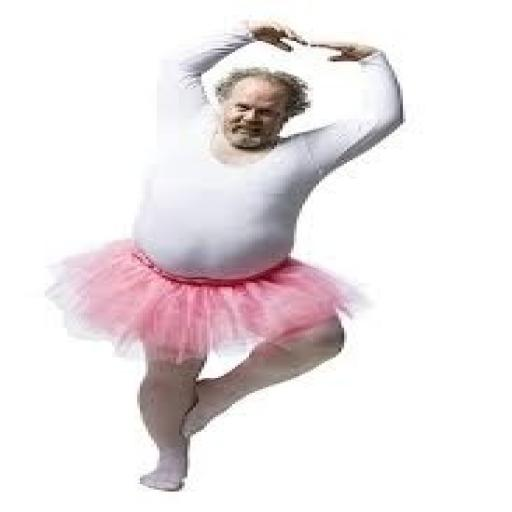dancing: (42, 17, 408, 493)
